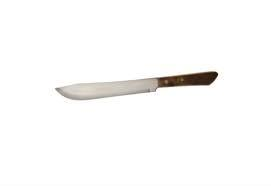Knife: (54, 70, 218, 100)
